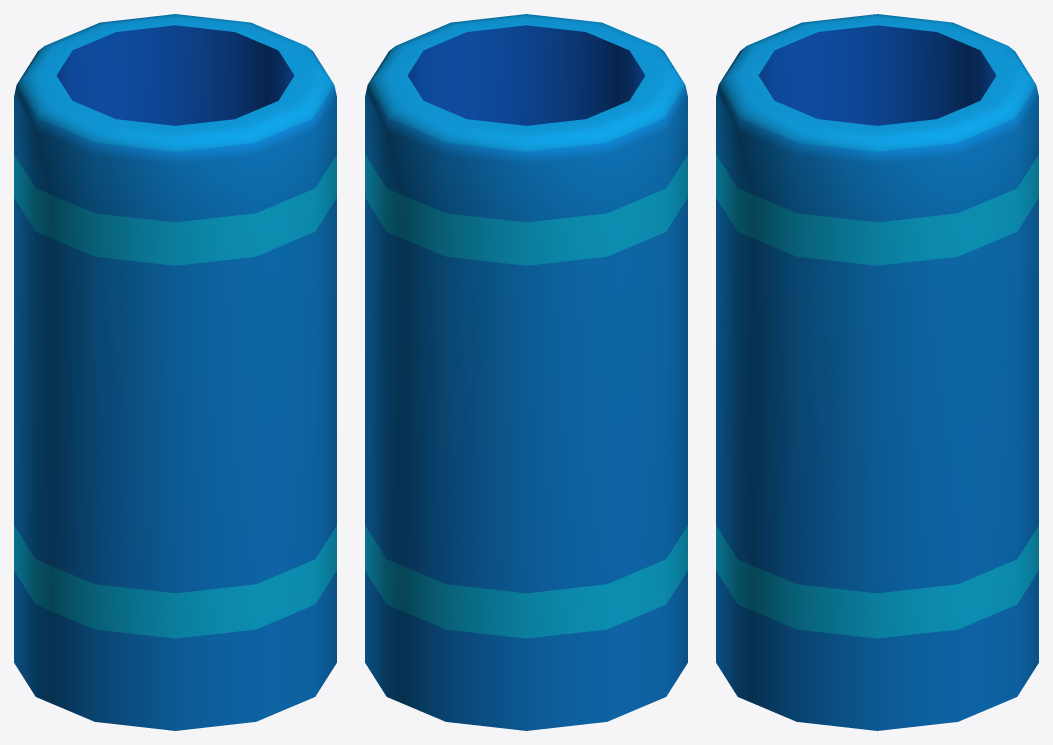
The model's file is F_P_FireworksEjector_4.FBX.
3 renders of one model, left to right at view 1: azimuth 30°, elevation 25°; view 2: azimuth 150°, elevation 25°; view 3: azimuth 270°, elevation 25°, orthographic.
Visible parts, largest first — view 1: F_P_FireworksEjector_4; view 2: F_P_FireworksEjector_4; view 3: F_P_FireworksEjector_4.
Part boxes in pixels (box(x1,y1,x2,y2)): F_P_FireworksEjector_4: box(14, 14, 336, 730); F_P_FireworksEjector_4: box(365, 14, 687, 730); F_P_FireworksEjector_4: box(716, 14, 1038, 730).
Bounding box in the file's own units: 39.47 × 79.2 × 39.47.
